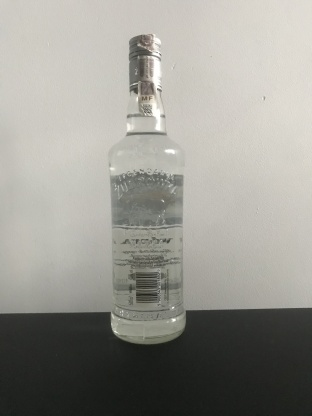nakretka: (126, 31, 163, 95)
